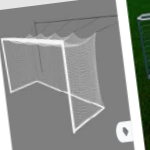goals: (1, 31, 107, 133)
